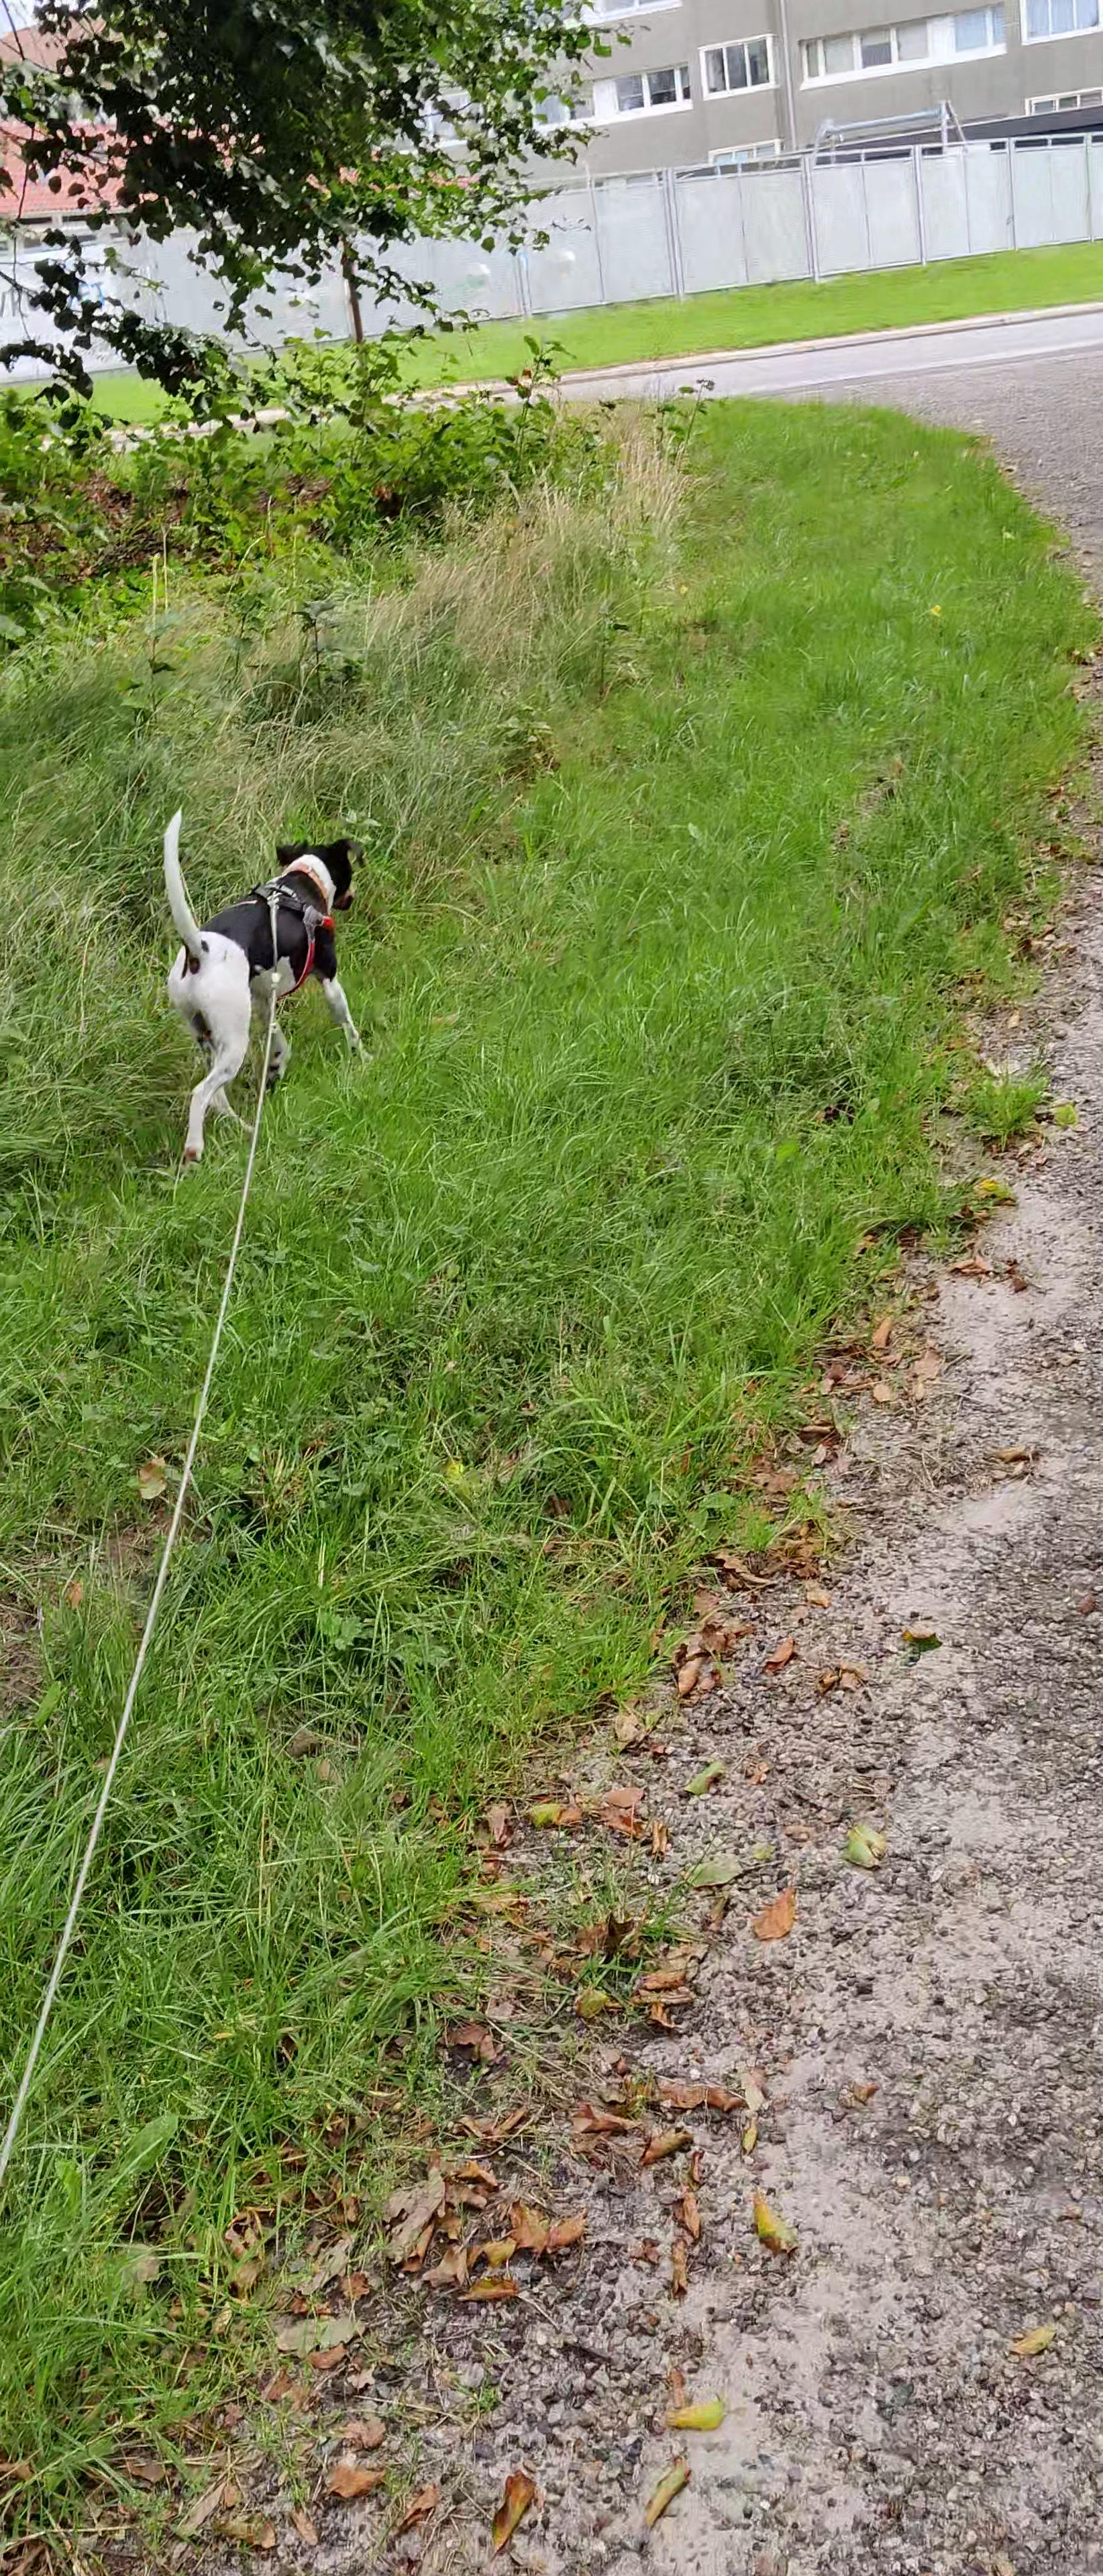Dog: (143, 802, 383, 1161)
